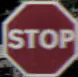Stop: (3, 5, 74, 67)
